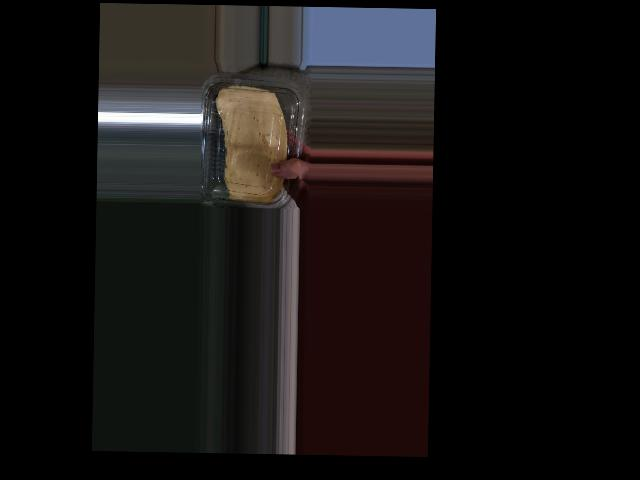cheese: (199, 72, 294, 209)
